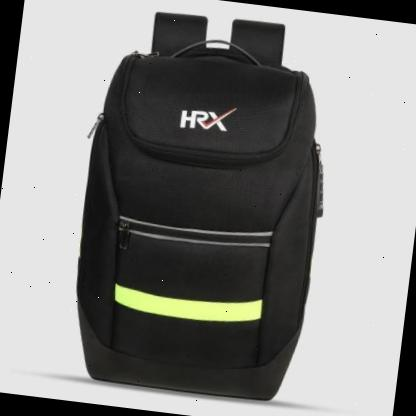bag: (45, 0, 354, 415)
